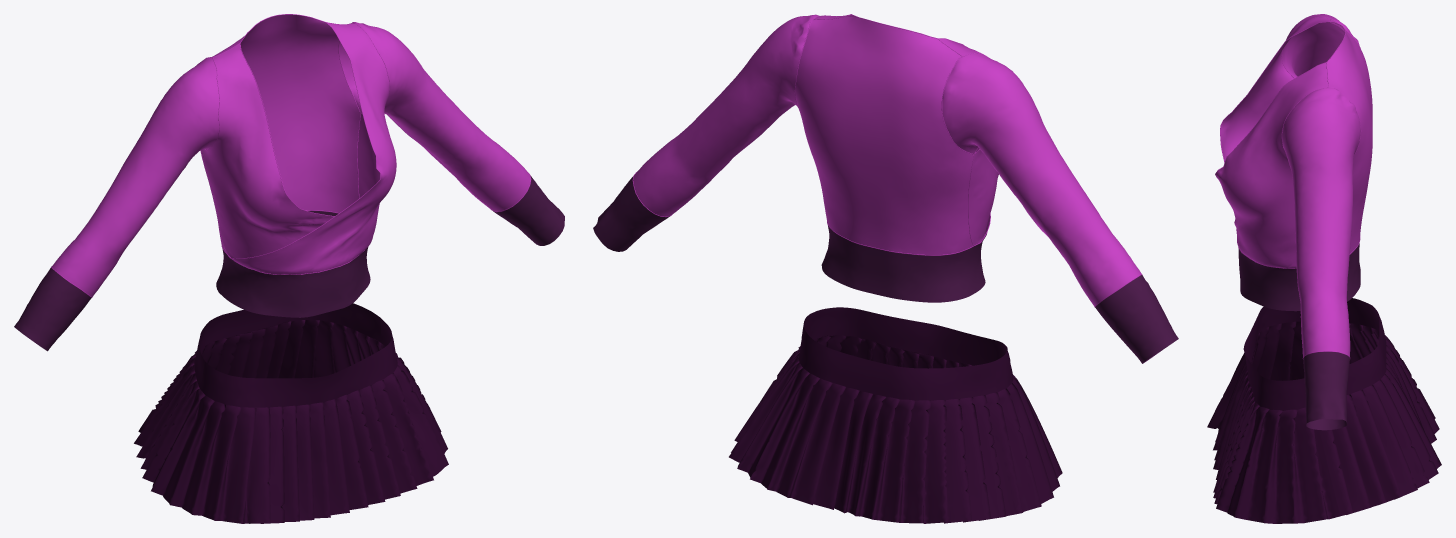
Rendered from Skirt with sweater fbx.FBX.
3 views of the same model, side by side, from view 1: azimuth 30°, elevation 25°; view 2: azimuth 150°, elevation 25°; view 3: azimuth 270°, elevation 25° (orthographic). The views are drawn at different scales.
Visible parts, largest first — view 1: blouse, skirt, elastic sweaters, seams; view 2: blouse, skirt, elastic sweaters, seams; view 3: blouse, skirt, elastic sweaters, seams.
Boxes of the visible parts, x1=… form: blouse: x1=51, y1=14, x2=530, y2=296; skirt: x1=134, y1=303, x2=448, y2=523; elastic sweaters: x1=14, y1=175, x2=564, y2=351; seams: x1=51, y1=14, x2=531, y2=297; blouse: x1=633, y1=14, x2=1141, y2=306; skirt: x1=729, y1=307, x2=1062, y2=523; elastic sweaters: x1=593, y1=176, x2=1178, y2=363; seams: x1=632, y1=14, x2=1142, y2=307; blouse: x1=1215, y1=14, x2=1372, y2=357; skirt: x1=1207, y1=298, x2=1441, y2=523; elastic sweaters: x1=1238, y1=243, x2=1360, y2=430; seams: x1=1215, y1=17, x2=1361, y2=358.
Size of the model in its own units: 967 by 771 by 369.
